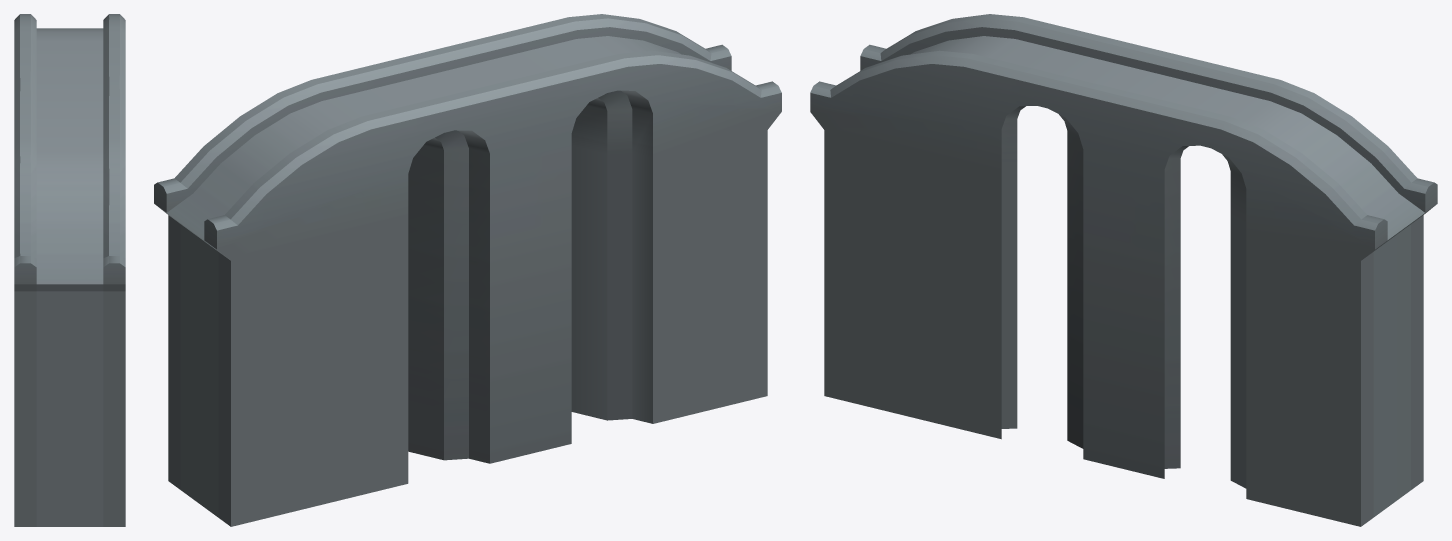
The model's file is kaykit-medieval-hexagon-pack-building-bridge-b.glb.
3 renders of one model, left to right at view 1: azimuth 30°, elevation 25°; view 2: azimuth 150°, elevation 25°; view 3: azimuth 270°, elevation 25°, orthographic. The views are drawn at different scales.
Visible parts, largest first — view 1: building_bridge_B; view 2: building_bridge_B; view 3: building_bridge_B.
Part boxes in pixels (<box>): building_bridge_B: <box>14,14,125,526</box>; building_bridge_B: <box>154,14,781,526</box>; building_bridge_B: <box>810,14,1437,526</box>.
Size of the model in its own units: 1.33 by 1.25 by 1.92.
1 material, 1 textured.
